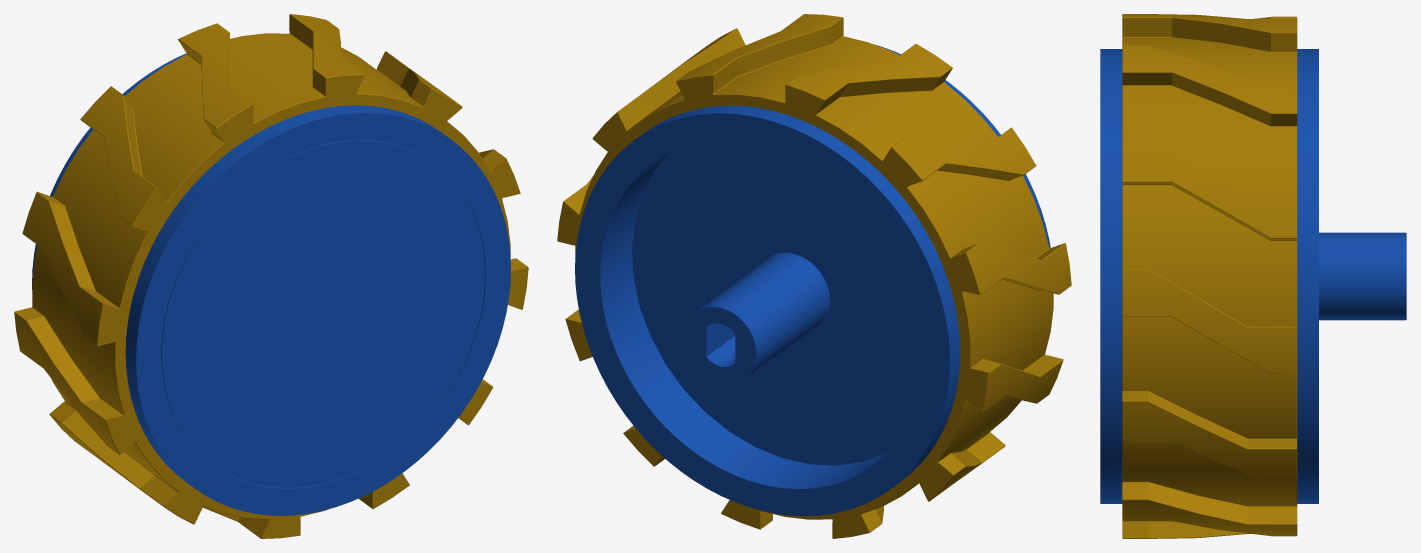
Rendered from GR2_Wheel_Assembly.dae.
The picture shows the model from 3 angles, left to right: view 1: azimuth 30°, elevation 25°; view 2: azimuth 150°, elevation 25°; view 3: azimuth 270°, elevation 25°; orthographic projection. The views are drawn at different scales.
Parts seen in each view (by area): view 1: Hub, Rubber Tyre; view 2: Hub, Rubber Tyre; view 3: Rubber Tyre, Hub.
Boxes of the visible parts, <box> form: Hub: <box>32,53,510,515</box>; Rubber Tyre: <box>14,14,528,538</box>; Hub: <box>575,45,1050,516</box>; Rubber Tyre: <box>557,14,1071,538</box>; Rubber Tyre: <box>1122,14,1297,538</box>; Hub: <box>1100,49,1406,503</box>.
Bounding box in the file's own units: 0.0599 × 0.035 × 0.0599.
